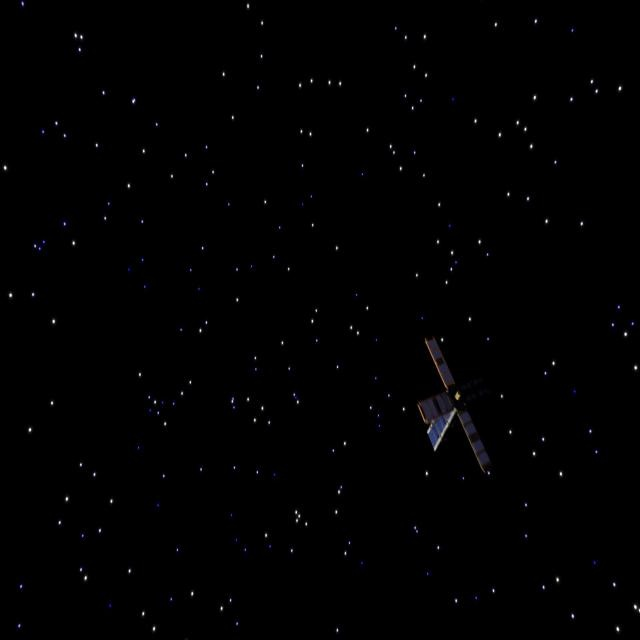medium_debris: (416, 324, 496, 480)
